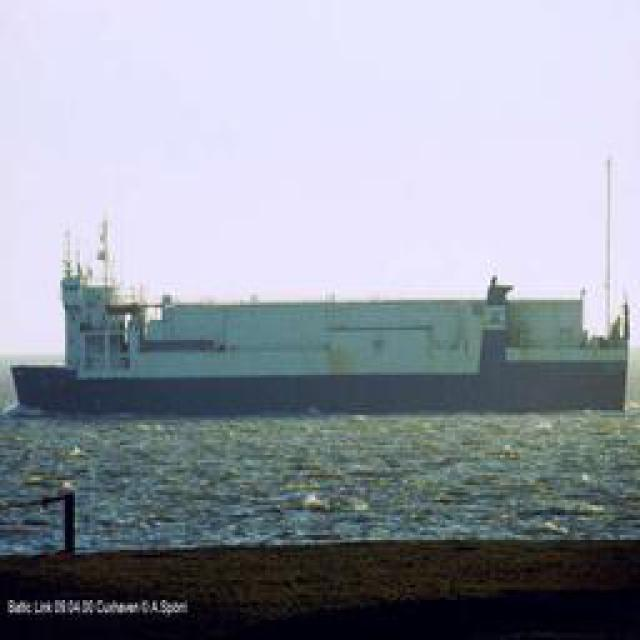Ship: (19, 286, 629, 419)
